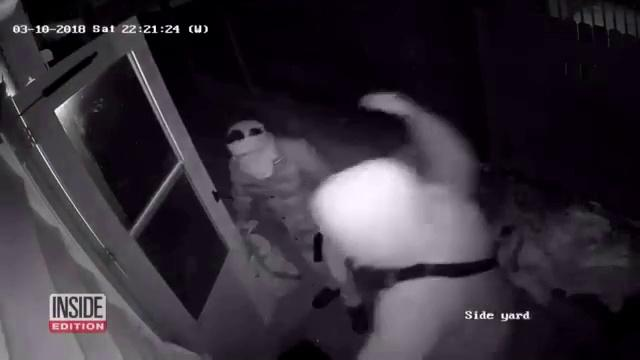suspicion: (234, 91, 542, 360), (199, 116, 375, 333)
